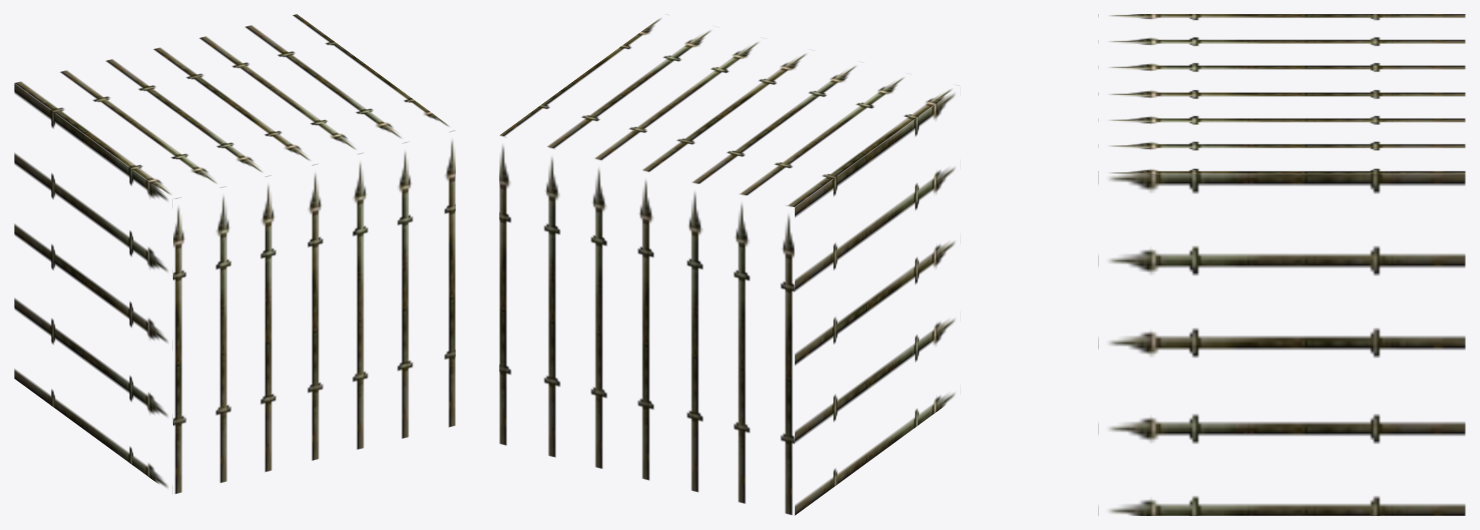
Rendered from HouseEtc03.glb.
3 views of the same model, side by side, from view 1: azimuth 30°, elevation 25°; view 2: azimuth 150°, elevation 25°; view 3: azimuth 270°, elevation 25° (orthographic). The views are drawn at different scales.
Parts seen in each view (by area): view 1: model_HouseEtc03; view 2: model_HouseEtc03; view 3: model_HouseEtc03.
Part boxes in pixels (bbox=[...]): model_HouseEtc03: bbox=[14, 14, 455, 493]; model_HouseEtc03: bbox=[499, 14, 956, 515]; model_HouseEtc03: bbox=[1098, 14, 1465, 515].
Size of the model in its own units: 2 by 2 by 2.44.
Materials: 2 (2 with a texture image).
